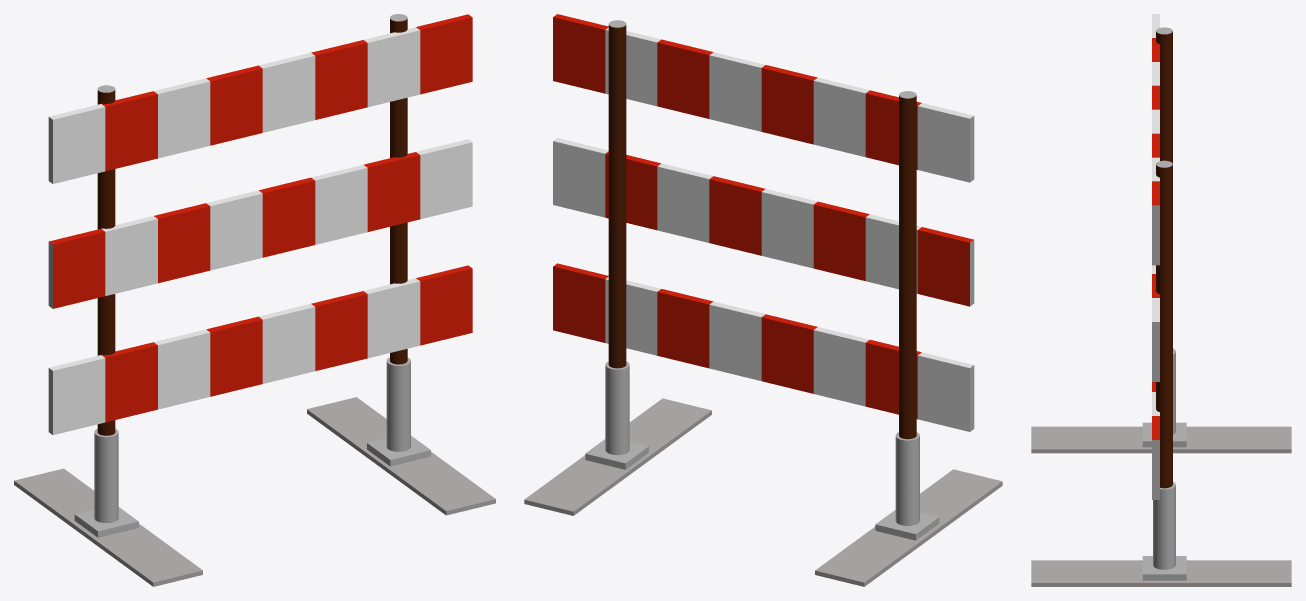
3 views of the same model, side by side, from view 1: azimuth 30°, elevation 25°; view 2: azimuth 150°, elevation 25°; view 3: azimuth 270°, elevation 25° (orthographic). The views are drawn at different scales.
Parts seen in each view (by area): view 1: Object_5, Object_4, Object_2, Object_8, Object_7, Object_3; view 2: Object_5, Object_4, Object_7, Object_2, Object_8, Object_3; view 3: Object_2, Object_7, Object_8, Object_3, Object_4, Object_5.
Boxes of the visible parts, box(x1,y1,x2,y2) form: Object_5: box(49, 27, 472, 434); Object_4: box(49, 14, 472, 422); Object_2: box(14, 397, 495, 586); Object_8: box(74, 357, 430, 537); Object_7: box(97, 18, 407, 435); Object_3: box(48, 14, 407, 434); Object_5: box(553, 27, 973, 431); Object_4: box(553, 14, 973, 419); Object_7: box(608, 25, 916, 439); Object_2: box(524, 398, 1002, 586); Object_8: box(585, 361, 939, 540); Object_3: box(608, 20, 974, 431); Object_2: box(1031, 426, 1291, 586); Object_7: box(1156, 31, 1172, 488); Object_8: box(1142, 348, 1186, 580); Object_3: box(1152, 27, 1172, 499); Object_4: box(1152, 38, 1159, 439); Object_5: box(1152, 14, 1159, 415).
Bounding box in the file's own units: 2.3 × 2.3 × 1.32.
